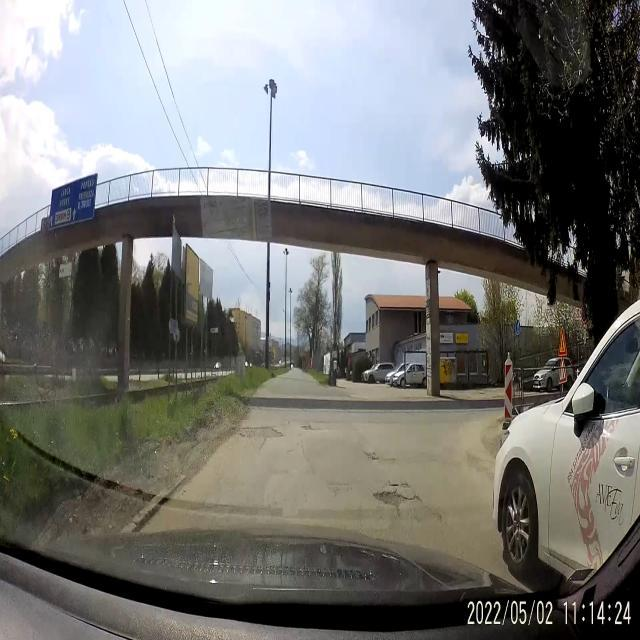Pothole: (370, 481, 416, 512), (234, 422, 288, 446), (361, 444, 382, 466), (300, 415, 316, 437), (383, 456, 398, 464)
